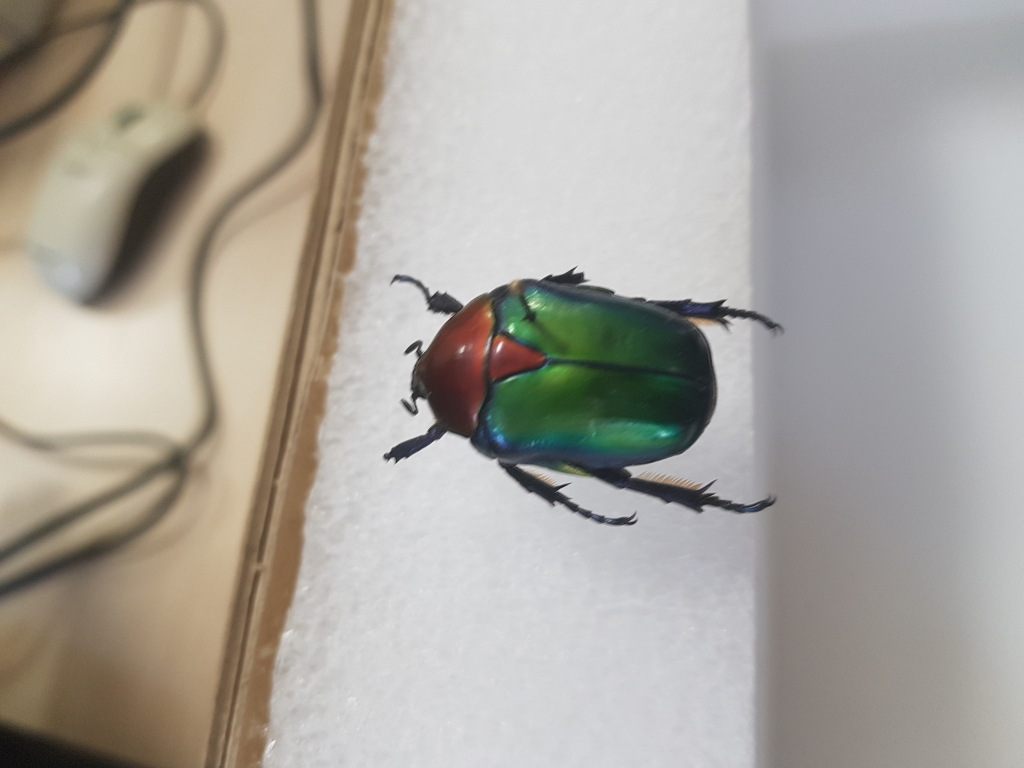Protaetia_speciosa_jousselini: (379, 249, 789, 534)
